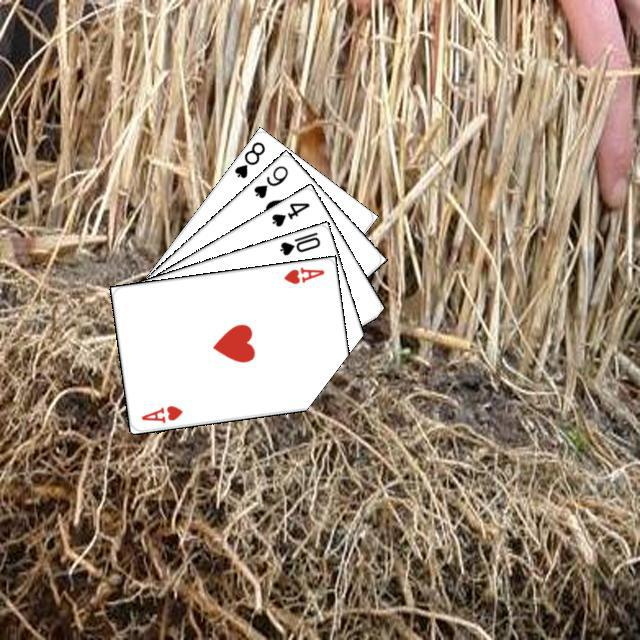10s: (275, 227, 322, 257)
4s: (266, 197, 311, 229)
8s: (229, 136, 267, 180)
9s: (249, 160, 290, 200)
Ah: (136, 400, 184, 425), (279, 262, 326, 286)
